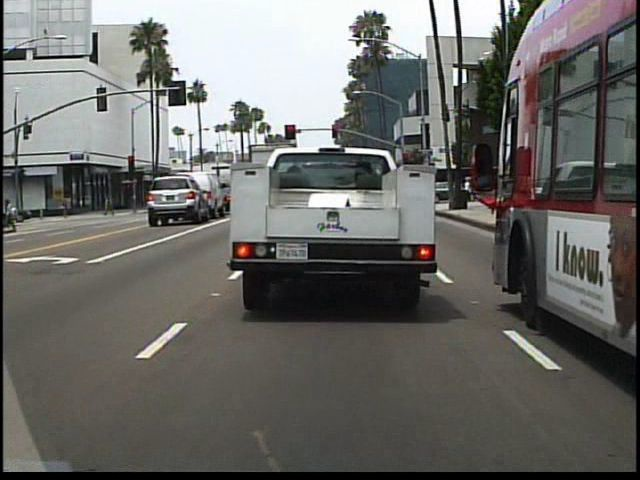person: (62, 191, 73, 218)
